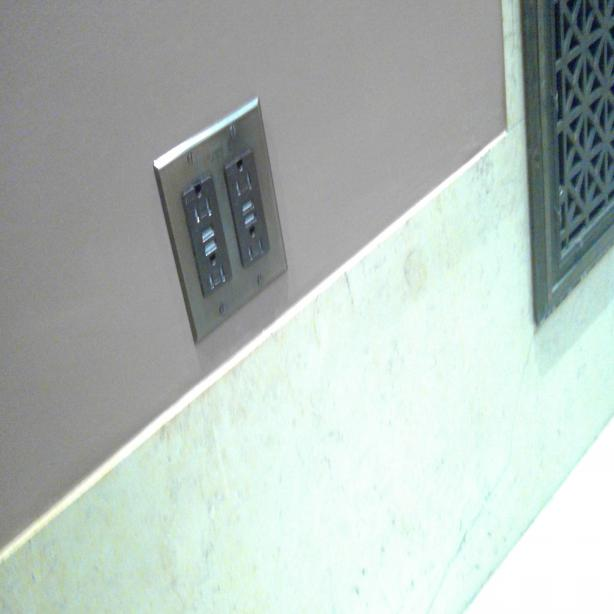typeb: (183, 182, 216, 224), (227, 157, 259, 200), (200, 250, 228, 293), (240, 224, 268, 263)
